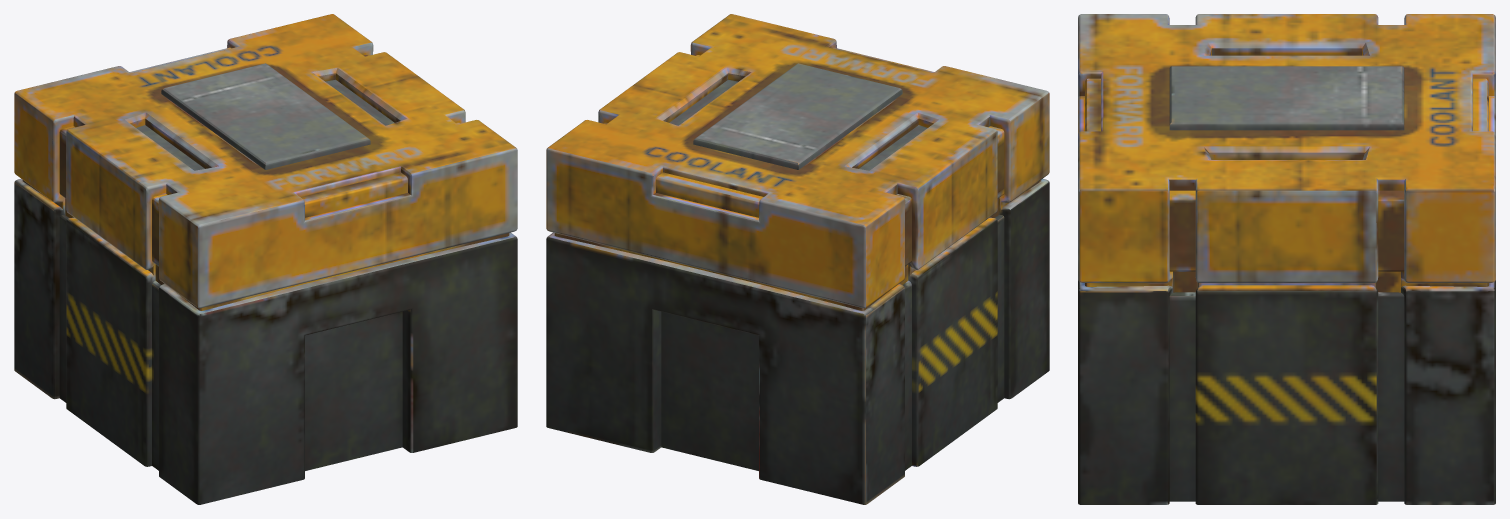
Rendered from SM_Crates_LP_pCube1.fbx.
The picture shows the model from 3 angles, left to right: view 1: azimuth 30°, elevation 25°; view 2: azimuth 150°, elevation 25°; view 3: azimuth 270°, elevation 25°; orthographic projection. The views are drawn at different scales.
Parts seen in each view (by area): view 1: SM_Crates_LP_pCube1_LOD0; view 2: SM_Crates_LP_pCube1_LOD0; view 3: SM_Crates_LP_pCube1_LOD0.
Boxes of the visible parts, <box> form: SM_Crates_LP_pCube1_LOD0: <box>14,14,517,504</box>; SM_Crates_LP_pCube1_LOD0: <box>546,14,1049,504</box>; SM_Crates_LP_pCube1_LOD0: <box>1078,14,1495,504</box>.
Bounding box in the file's own units: 60 × 60 × 51.17.
Materials: 1 (1 with a texture image).
